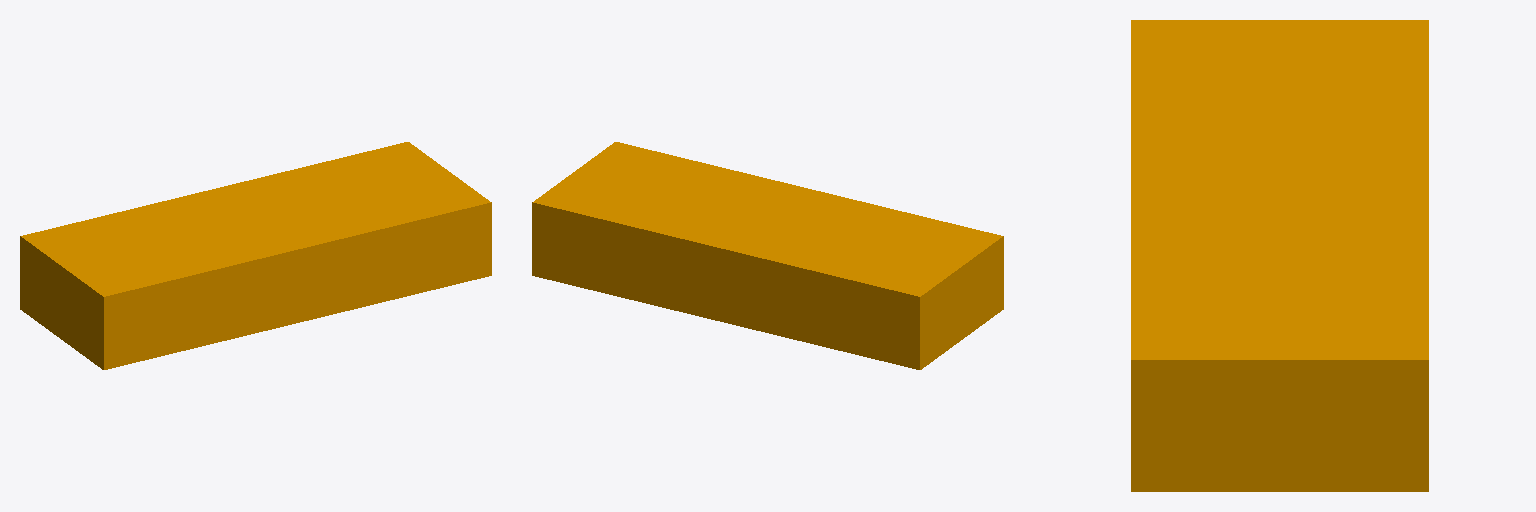
URDF robot description (ford):
<?xml version = "1.0" ?>
<robot
  name="ford">
  <link name="base_link"> </link>

  <link name="base_footprint"> </link>

  <joint name="base_footprint_joint" type="fixed">
	<origin xyz="0 0 0" rpy="0 0 0" /> <!--origin xyz="0.25125 0 0" rpy="0 0 0" /-->
	<parent link="base_footprint"/>
	<child link="base_link"/>
  </joint>

   <link name="imu_link"> </link>
  <joint name="imu_joint" type="fixed">
	<origin xyz="0 0 0" rpy="0 0 0" />
	<parent link="base_footprint"/>
	<child link="imu_link"/>
  </joint>

 <link
    name="rear_right">
    <collision>
      <origin
        xyz="0 0 0"
        rpy="0 0 0" />
      <geometry>
        <cylinder length="0.08" radius="0.1"/>           
      </geometry>
    </collision>
  </link>

  <joint
    name="r_r_h"
    type="continuous">
    <origin
      xyz="0 -0.362474949366141 0.1"
      rpy="3.14159265358979 -1.23330957383996 -3.14159265358979" />
    <parent
      link="base_footprint" />
    <child
      link="rear_right" />
    <axis
      xyz="0 1 0" />
  </joint>

    <link
    name="rear_left">
    <collision>
      <origin
        xyz="0 0 0"
        rpy="0 0 0" />
      <geometry>       
          <cylinder length="0.08" radius="0.1"/>       
      </geometry>
    </collision>
  </link>

  <joint
    name="r_l_h"
    type="continuous">
    <origin
      xyz="0 0.362474949366095 0.1"
      rpy="3.14159265358979 1.32303231890829 3.14159265358979" />
    <parent
      link="base_footprint" />
    <child
      link="rear_left" />
    <axis
      xyz="0 1 0" />
  </joint>

  
  <link name="frontlidar"> </link>
  <joint
    name="lidar_h"
    type="fixed">
    <origin
      xyz="0.72 -0.501 0"
      rpy="0 0 -0.7853" />
    <parent
      link="base_footprint" />
    <child
      link="frontlidar" />
    <axis
      xyz="0 0 0" />
  </joint>

  <link name="rearlidar"> </link>
  <joint
    name="lidar_h1"
    type="fixed">
    <origin
      xyz="-0.23 0.501 0"
      rpy="0 0 2.3561" />
    <parent
      link="base_footprint" />
    <child
      link="rearlidar" />
    <axis
      xyz="0 0 0" />
  </joint>

    <link name="midlidar"> </link>
  <joint
    name="lidar_h3"
    type="fixed">
    <origin
      xyz="-0.145 0 0"
      rpy="0 0 0" />
    <parent
      link="base_footprint" />
    <child
      link="midlidar" />
    <axis
      xyz="0 0 0" />
  </joint>
  <!-- Realsense -->
  <joint name="camera_joint" type="fixed">
    <origin
      xyz="0.805 0 0.51"
      rpy="0 0 0" />
      <parent link="base_footprint"/>
      <child link="camera_link" />
    </joint>

    <link name="camera_link">
      <visual>
      <origin xyz="0 .0275 0.0195" rpy="0 0 0"/>
        <geometry>
          <box size="0.105 0.039 0.019"/>
          <!--<mesh filename="package://realsense_ros_camera/meshes/r430/r430.dae" />-->
        </geometry>
      </visual>
      <collision>
        <origin xyz="0.0 0.0 0.0195" rpy="0 0 0"/>
        <geometry>
        <box size="0.019 0.105 0.039"/>
        </geometry>
      </collision>
      <inertial>
        <!-- The following are not reliable values, and should not be used for modeling -->
        <mass value="0.564" />
        <origin xyz="0 0 0" />
        <inertia ixx="0.003881243" ixy="0.0" ixz="0.0" iyy="0.000498940" iyz="0.0" izz="0.003879257" />
      </inertial>
    </link>
   
    <!-- camera depth joints and links -->
    <joint name="camera_depth_joint" type="fixed">
      <origin xyz="0.0 -0.035 0.028" rpy="0 0 0"/>
      <parent link="camera_link"/>
      <child link="camera_depth_frame" />
    </joint>
    <link name="camera_depth_frame"/>

    <joint name="camera_depth_optical_joint" type="fixed">
      <origin xyz="0 0 0" rpy="-1.570796327 0 -1.570796327" />
      <parent link="camera_depth_frame" />
      <child link="camera_depth_optical_frame" />
    </joint>
    <link name="camera_depth_optical_frame"/>
      
    <!-- camera left IR joints and links -->
    <joint name="camera_left_ir_joint" type="fixed">
      <origin xyz="0 -0.025 0" rpy="0 0 0" />
      <parent link="camera_depth_frame" />
      <child link="camera_left_ir_frame" />
    </joint>
    <link name="camera_left_ir_frame"/>

    <joint name="camera_left_ir_optical_joint" type="fixed">
      <origin xyz="0 0 0" rpy="-1.570796327 0 -1.570796327" />
      <parent link="camera_left_ir_frame" />
      <child link="camera_left_ir_optical_frame" />
    </joint>
    <link name="camera_left_ir_optical_frame"/>

    <!-- camera right IR joints and links -->
    <joint name="camera_right_ir_joint" type="fixed">
      <origin xyz="0 0.025 0" rpy="0 0 0" />
      <parent link="camera_depth_frame" />
      <child link="camera_right_ir_frame" />
    </joint>
    <link name="camera_right_ir_frame"/>

    <joint name="camera_right_ir_optical_joint" type="fixed">
      <origin xyz="0 0 0" rpy="-1.570796327 0 -1.570796327" />
      <parent link="camera_right_ir_frame" />
      <child link="camera_right_ir_optical_frame" />
    </joint>
    <link name="camera_right_ir_optical_frame"/>

    <!-- camera fisheye joints and links -->
    <joint name="camera_fisheye_joint" type="fixed">
      <origin xyz="0 0.042 0" rpy="0 0 0" />
      <parent link="camera_depth_frame" />
      <child link="camera_fisheye_frame" />
    </joint>
    <link name="camera_fisheye_frame"/>

    <joint name="camera_fisheye_optical_joint" type="fixed">
      <origin xyz="0 0 0" rpy="-1.570796327 0 -1.570796327" />
      <parent link="camera_fisheye_frame" />
      <child link="camera_fisheye_optical_frame" />
    </joint>
    <link name="camera_fisheye_optical_frame"/>
  <!-- /Realsense -->
</robot>

--- Render facts (derived) ---
Views: 3 orthographic renders of the robot side by side, from view 1: azimuth 30°, elevation 25°; view 2: azimuth 150°, elevation 25°; view 3: azimuth 270°, elevation 25°.
Robot: ford — 17 links, 16 joints (2 continuous, 14 fixed); root link base_footprint; default pose: every joint at zero.
Visible links, largest first — view 1: camera_link; view 2: camera_link; view 3: camera_link.
Link boxes in pixels (<box>): camera_link: <box>20,142,491,369</box>; camera_link: <box>532,142,1003,369</box>; camera_link: <box>1131,20,1428,491</box>.
Size in the robot's own frame: 0.105 by 0.039 by 0.019 metres.
Geometry: primitives only (box / cylinder / sphere), no mesh files.
